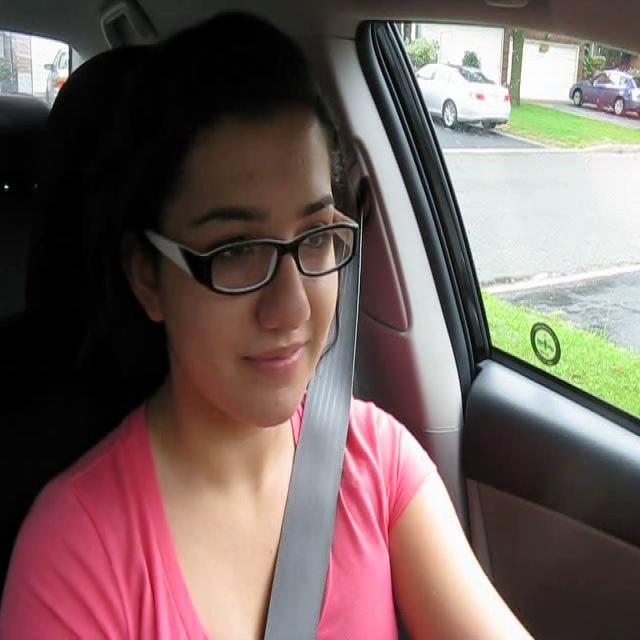close: (242, 339, 308, 381)
